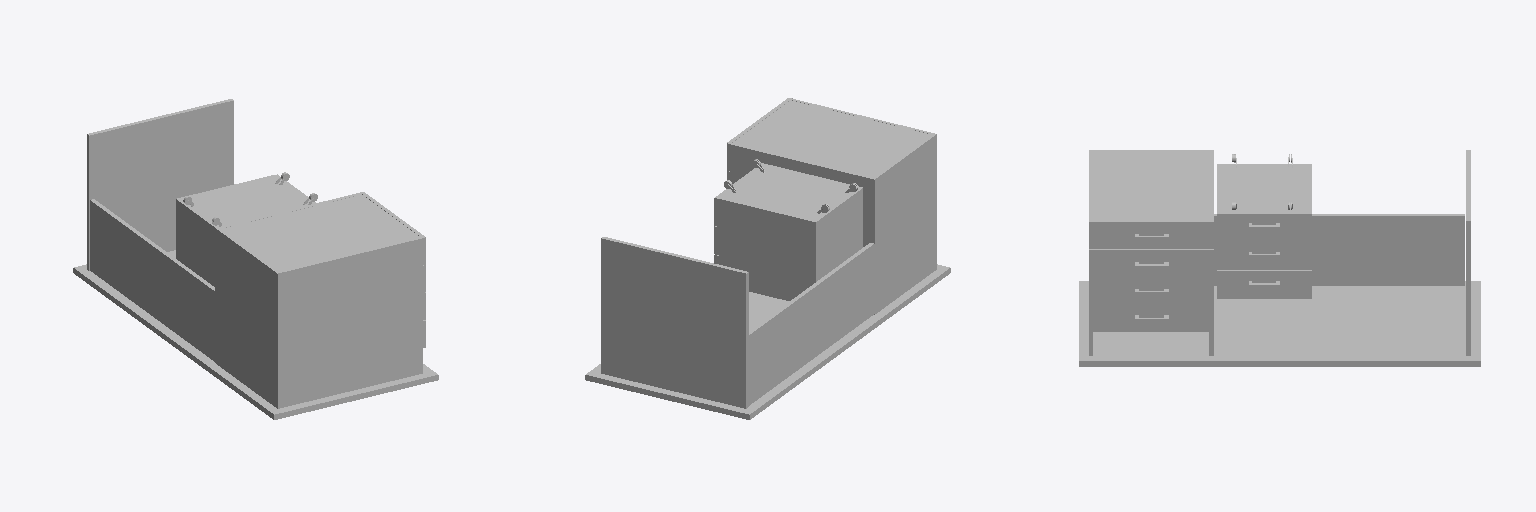
The model's file is mesa2.obj.
The picture shows the model from 3 angles: view 1: azimuth 30°, elevation 25°; view 2: azimuth 150°, elevation 25°; view 3: azimuth 270°, elevation 25°; orthographic projection.
Visible parts, largest first — view 1: Cube.013_Cube.015, Cube.031_Cube.034; view 2: Cube.013_Cube.015, Cube.031_Cube.034; view 3: Cube.013_Cube.015, Cube.031_Cube.034.
Boxes of the visible parts, x1=… form: Cube.013_Cube.015: x1=73, y1=99, x2=438, y2=419; Cube.031_Cube.034: x1=176, y1=172, x2=317, y2=286; Cube.013_Cube.015: x1=585, y1=98, x2=950, y2=419; Cube.031_Cube.034: x1=714, y1=159, x2=862, y2=300; Cube.013_Cube.015: x1=1079, y1=150, x2=1480, y2=366; Cube.031_Cube.034: x1=1217, y1=154, x2=1311, y2=298.
Size of the model in its own units: 2.06 by 1.69 by 4.36.